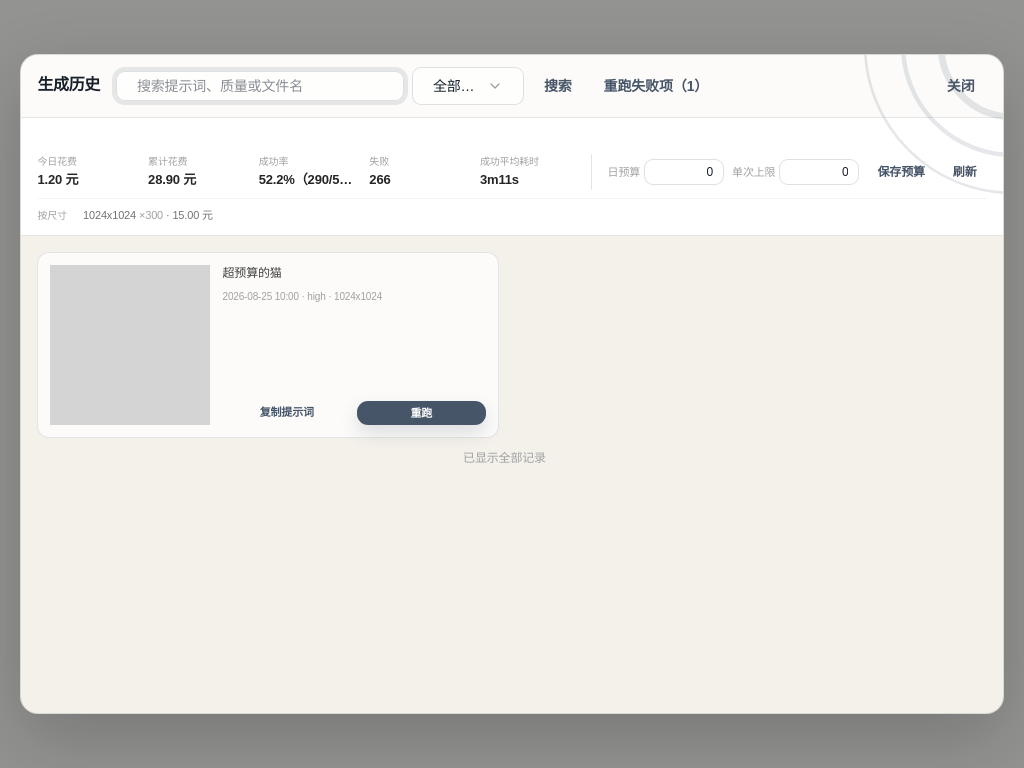
Test: HistoryGallery 成本看板与重跑失败项 › 超预算：弹窗给警示，确认按钮变「仍然重跑」并带 allowOverBudget 提交
Check: the text "超预算的猫" is shown, box top-left (222, 266), bottom-right (282, 280)
Click the button "重跑失败项（1）" at (656, 86), box top-left (592, 72), bottom-right (720, 100)
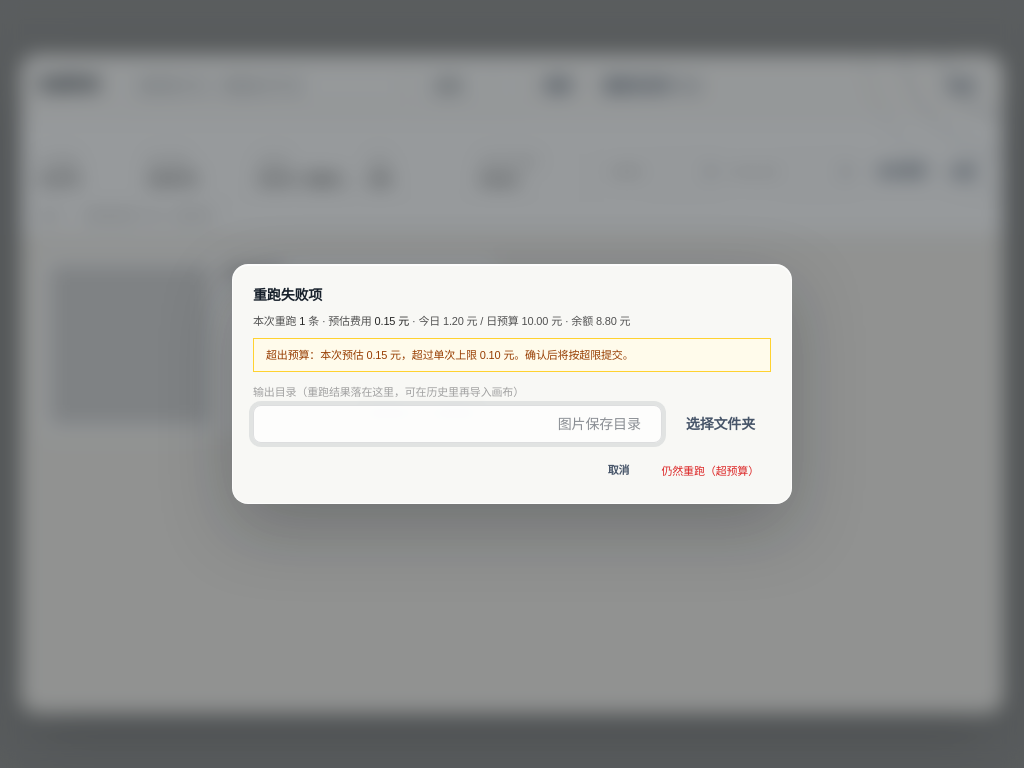
Check: the text with test id "rerun-over-budget" shows "超过单次上限", box top-left (320, 348), bottom-right (514, 360)
Click the button "仍然重跑（超预算）" at (710, 471), box top-left (649, 458), bottom-right (771, 483)
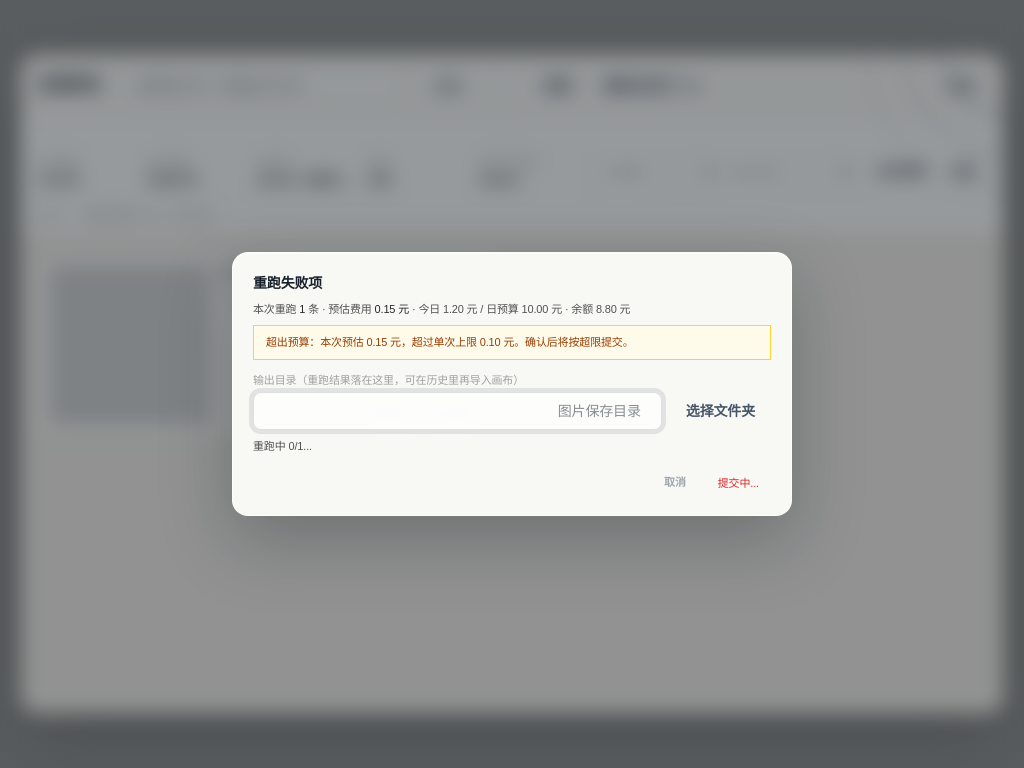
Check: the text "重跑中 0/1..." is shown, box top-left (253, 440), bottom-right (312, 452)
